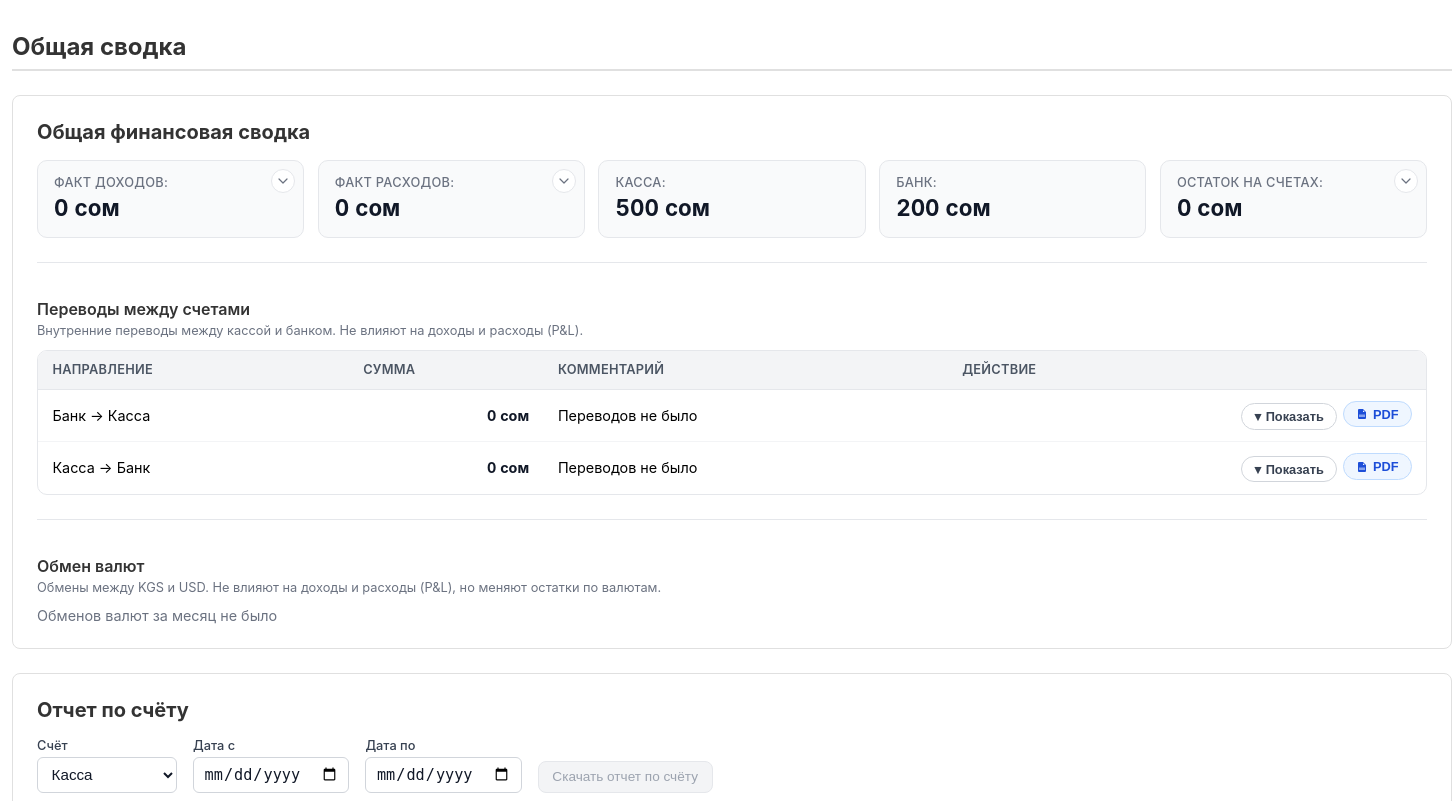
Test: GlobalSummary section PDF export › renders previous month balance block collapsed by default and expands with formatted values
Check: the text "Мурунку айдан остаток" is not shown
Click the button named "Показать детализацию остатков по счетам".
click(1406, 181)  # box x1=1394 y1=169 x2=1418 y2=193
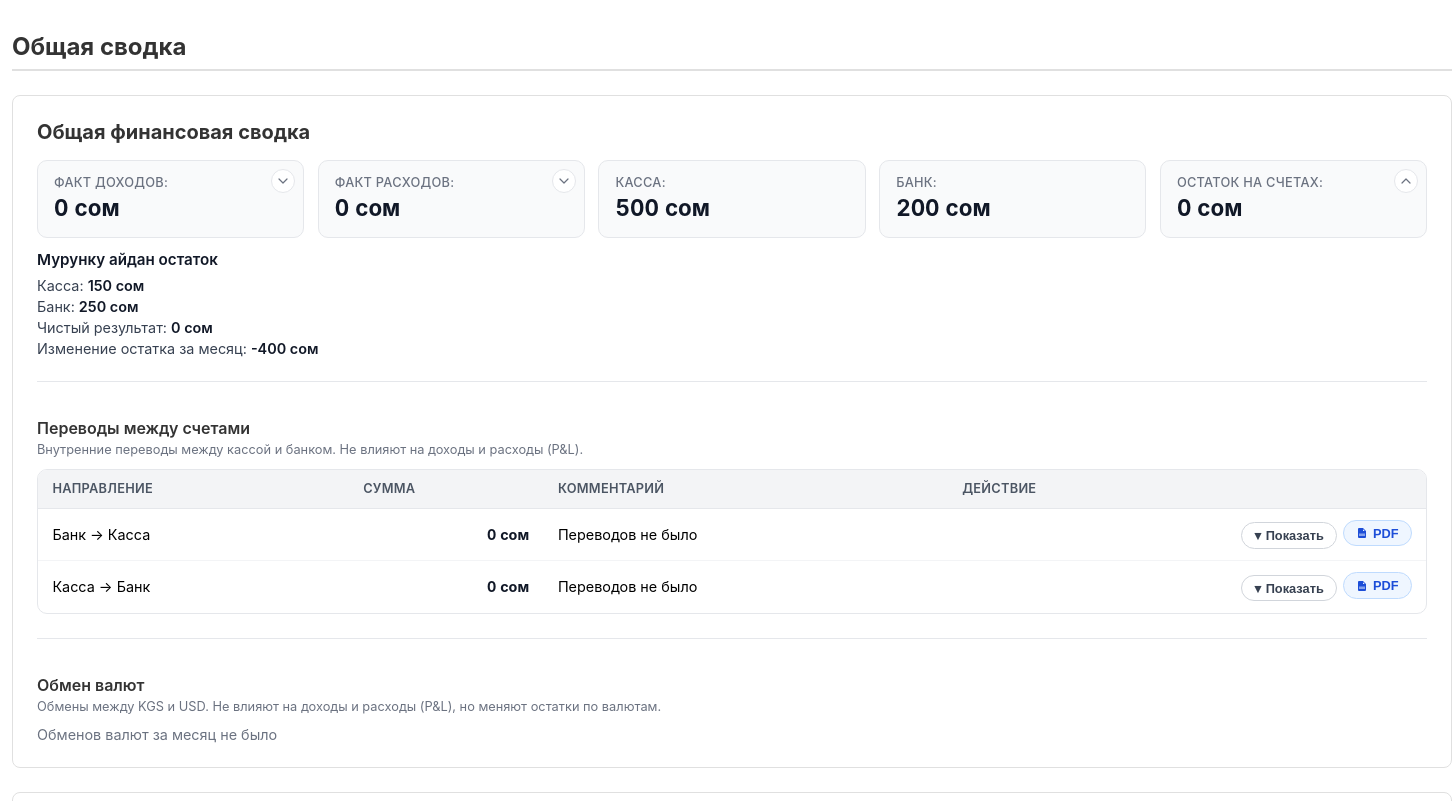
Check: the element with class "global-summary-balance-details" is shown, box x1=37 y1=250 x2=318 y2=357
Check: the heading "Мурунку айдан остаток" is shown, box x1=37 y1=250 x2=218 y2=269
Check: the text "150 сом" is shown, box x1=88 y1=277 x2=144 y2=294
